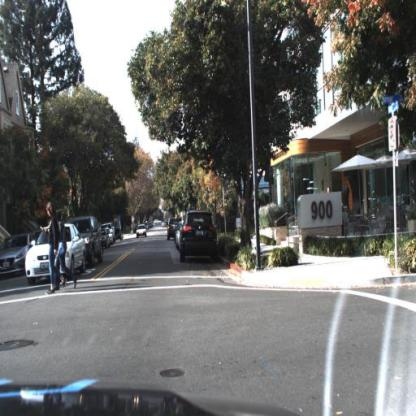car: (26, 223, 88, 286), (180, 209, 218, 263), (87, 214, 105, 271), (167, 215, 178, 243), (101, 227, 112, 249), (135, 224, 149, 241), (136, 224, 148, 240), (116, 227, 124, 242)
pedestrian: (41, 201, 72, 296), (55, 210, 72, 293), (323, 182, 333, 192), (325, 184, 334, 195)
